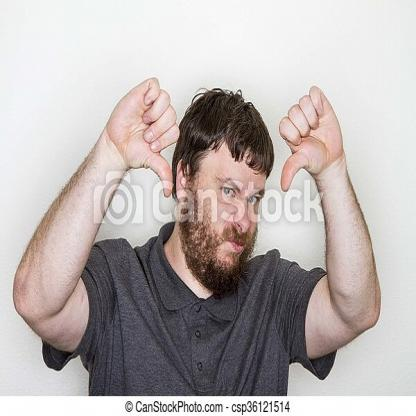Thumbs-Down: (96, 45, 202, 216), (262, 81, 355, 199)
